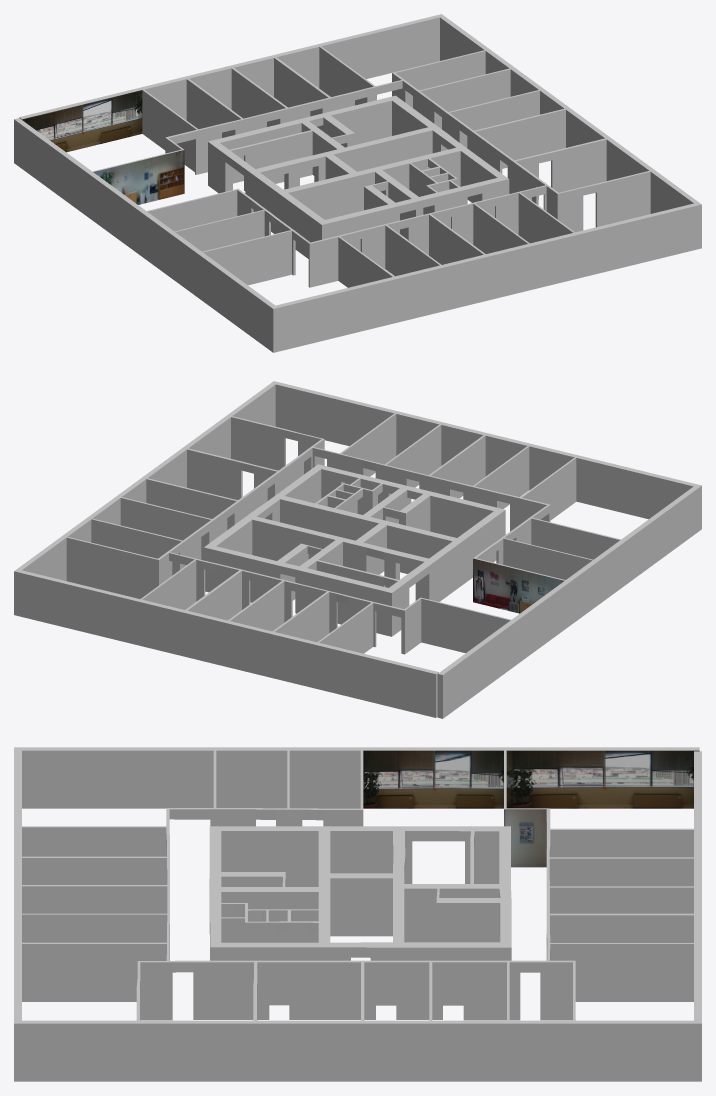
File: 7thmap.dae
The picture shows the model from 3 angles, top to bottom: view 1: azimuth 30°, elevation 25°; view 2: azimuth 150°, elevation 25°; view 3: azimuth 270°, elevation 25°; orthographic projection. The views are drawn at different scales.
Visible parts, largest first — view 1: Walls; view 2: Walls; view 3: Walls.
Part boxes in pixels (<box>): Walls: <box>14,14,701,352</box>; Walls: <box>14,381,701,718</box>; Walls: <box>14,747,701,1081</box>.
Size of the model in its own units: 26.03 by 27.37 by 2.55.
